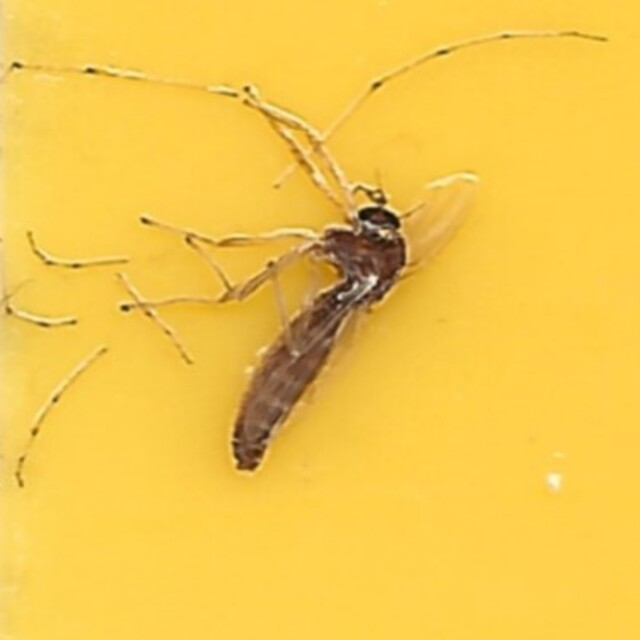Nematocera: (171, 161, 469, 479)
